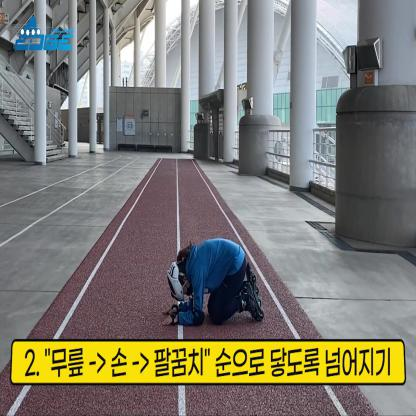Fall_Down: (164, 235, 263, 328)
